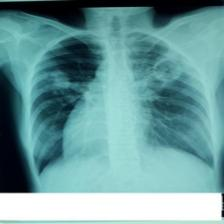tuberculosis: (16, 24, 220, 192)
